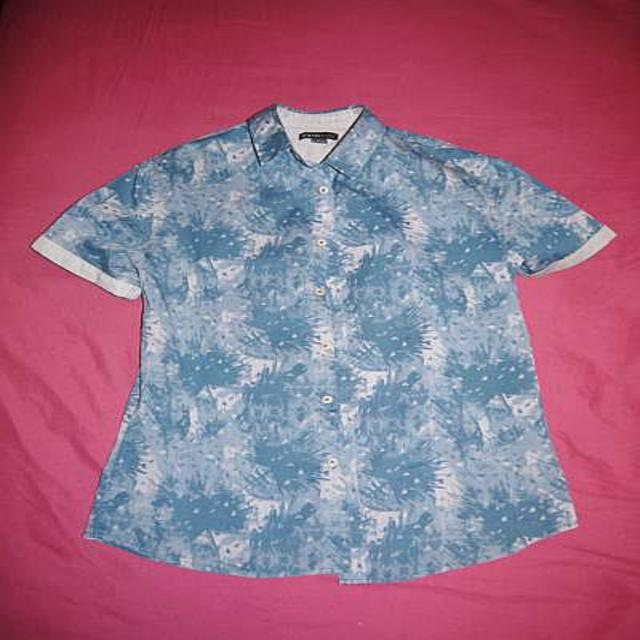SHIRT: (28, 91, 616, 593)
